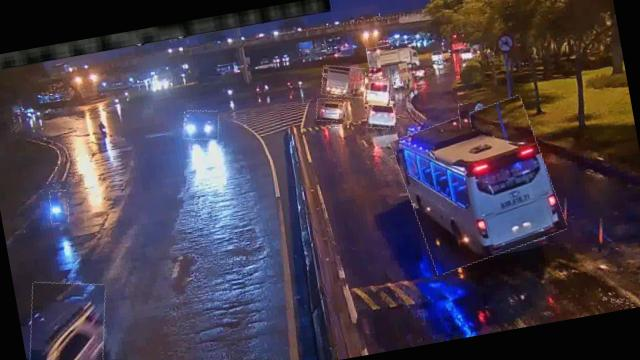Bike: (48, 188, 72, 224), (458, 103, 472, 129)
Bus: (392, 96, 566, 273), (360, 74, 394, 108)
Car: (14, 273, 119, 360), (181, 106, 222, 143), (364, 98, 399, 132), (314, 95, 346, 123)
Truck: (318, 61, 368, 102), (366, 41, 416, 75)
